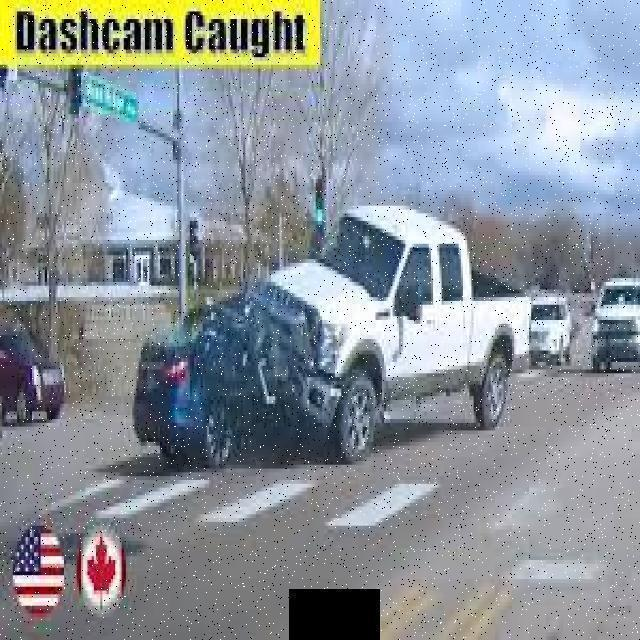accident: (125, 206, 538, 464)
